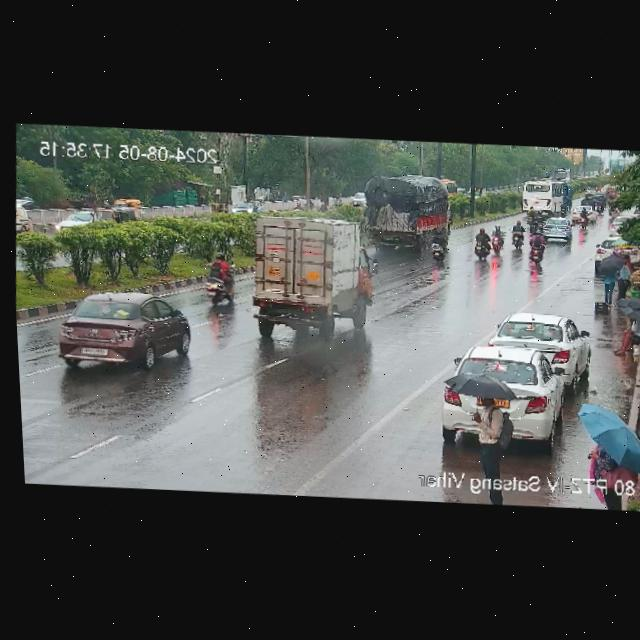bus: (516, 168, 572, 214), (438, 175, 459, 198)
car: (427, 334, 573, 457), (46, 281, 187, 382), (488, 310, 600, 388), (588, 231, 640, 276), (528, 212, 579, 251), (48, 205, 97, 239), (90, 203, 141, 228), (230, 195, 269, 220), (570, 198, 600, 229), (14, 190, 32, 239), (339, 181, 369, 210), (607, 209, 633, 232), (582, 177, 601, 197)
motorcycle: (200, 246, 241, 313), (469, 218, 497, 271), (488, 211, 512, 261), (522, 228, 554, 265), (505, 208, 531, 252), (587, 195, 608, 216), (553, 197, 574, 215)
person: (437, 366, 523, 470), (573, 396, 640, 480), (592, 252, 624, 316), (604, 303, 640, 355), (612, 252, 632, 299)
truck: (232, 201, 381, 350), (358, 167, 457, 253)
